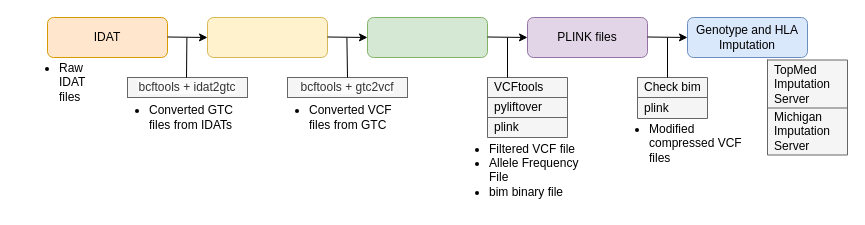
The diagram is 865 pixels wide and 225 high, and some of its shapes have lost their labels. The box of each missing label's shape, as (x1, y1, x2, y2) in pixels:
GTC: (206, 16, 328, 58)
VCF: (366, 16, 488, 58)
